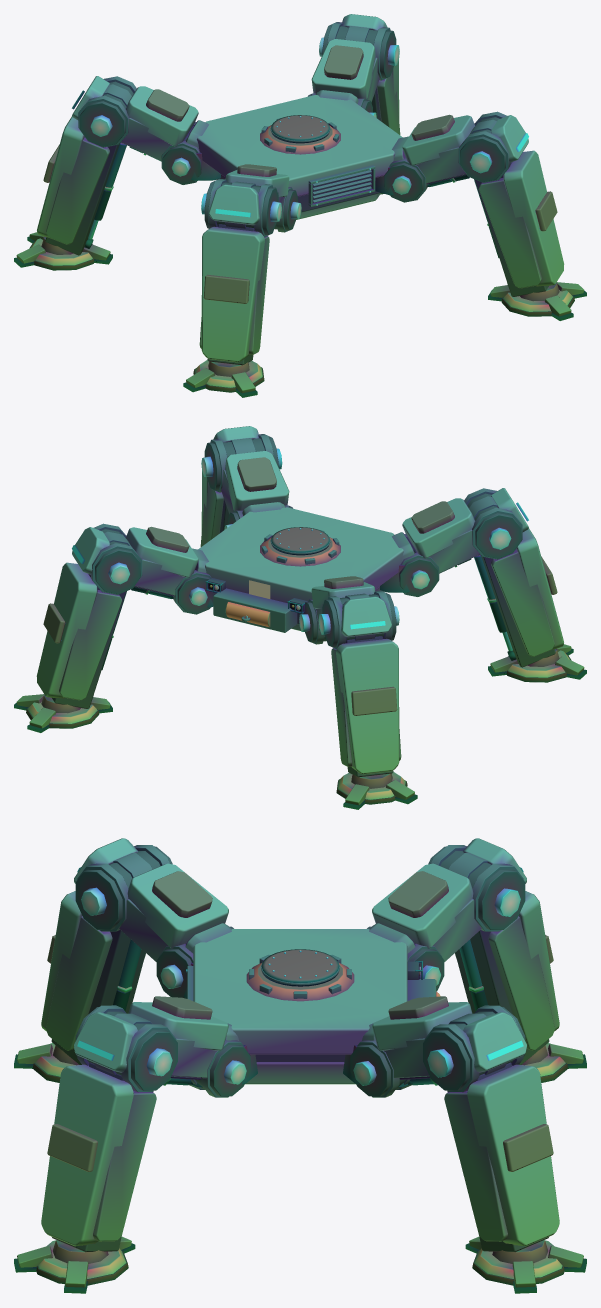
File: legs_quad_crab.glb
3 views of the same model, one above another, from view 1: azimuth 30°, elevation 25°; view 2: azimuth 150°, elevation 25°; view 3: azimuth 270°, elevation 25° (orthographic). The views are drawn at different scales.
Visible parts, largest first — view 1: Body__armor, Leg_2_Knee__armor, Leg_3_Knee__armor, Leg_0_Knee__armor_sub, Leg_3_Knee__armor_sub, Leg_3_Femur__armor, Leg_1_Femur__armor, Leg_0_Femur__armor, Leg_2_Femur__armor, Body__dark, Body__gunmetal, Leg_0_Knee__armor (+32 smaller); view 2: Body__armor, Leg_0_Knee__armor, Leg_1_Knee__armor, Leg_2_Knee__armor_sub, Leg_1_Knee__armor_sub, Leg_1_Femur__armor, Body__gunmetal, Leg_3_Femur__armor, Leg_2_Femur__armor, Leg_0_Femur__armor, Leg_2_Knee__armor, Body__dark (+32 smaller); view 3: Body__armor, Leg_1_Knee__armor, Leg_3_Knee__armor, Leg_0_Knee__armor_sub, Leg_2_Knee__armor_sub, Leg_1_Femur__armor, Leg_3_Femur__armor, Leg_0_Femur__armor, Leg_2_Femur__armor, Leg_1_Knee__armor_sub, Leg_3_Knee__armor_sub, Body__dark (+42 smaller).
Boxes of the visible parts, x1,y1,x2,y2 form: Body__armor: [197, 95, 402, 196]; Leg_2_Knee__armor: [201, 226, 264, 362]; Leg_3_Knee__armor: [503, 150, 564, 286]; Leg_0_Knee__armor_sub: [46, 137, 109, 244]; Leg_3_Knee__armor_sub: [478, 178, 541, 288]; Leg_3_Femur__armor: [402, 115, 528, 165]; Leg_1_Femur__armor: [311, 14, 387, 99]; Leg_0_Femur__armor: [72, 76, 198, 146]; Leg_2_Femur__armor: [209, 170, 289, 225]; Body__dark: [271, 115, 380, 212]; Body__gunmetal: [261, 118, 375, 206]; Leg_0_Knee__armor: [37, 116, 84, 237]; Body__armor: [198, 507, 403, 603]; Leg_0_Knee__armor: [336, 638, 399, 774]; Leg_1_Knee__armor: [36, 562, 97, 698]; Leg_2_Knee__armor_sub: [491, 549, 554, 656]; Leg_1_Knee__armor_sub: [59, 590, 122, 700]; Leg_1_Femur__armor: [72, 527, 198, 577]; Body__gunmetal: [205, 530, 339, 632]; Leg_3_Femur__armor: [213, 426, 289, 511]; Leg_2_Femur__armor: [402, 488, 528, 558]; Leg_0_Femur__armor: [311, 582, 391, 637]; Leg_2_Knee__armor: [516, 528, 563, 649]; Body__dark: [207, 527, 329, 624]; Body__armor: [193, 929, 407, 1054]; Leg_1_Knee__armor: [467, 1064, 559, 1246]; Leg_3_Knee__armor: [41, 1064, 133, 1246]; Leg_0_Knee__armor_sub: [455, 916, 554, 1050]; Leg_2_Knee__armor_sub: [46, 916, 145, 1050]; Leg_1_Femur__armor: [372, 1002, 526, 1072]; Leg_3_Femur__armor: [74, 1002, 228, 1072]; Leg_0_Femur__armor: [372, 838, 526, 948]; Leg_2_Femur__armor: [74, 838, 228, 948]; Leg_1_Knee__armor_sub: [444, 1090, 507, 1241]; Leg_3_Knee__armor_sub: [93, 1090, 156, 1241]; Body__dark: [255, 949, 419, 1061].
Bounding box in the file's own units: 4.46 × 1.91 × 4.22.
